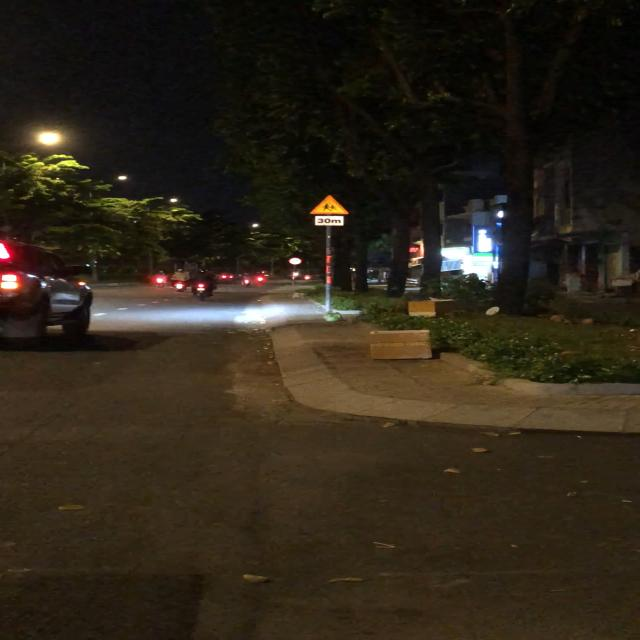Bien bao tre em: (307, 193, 351, 216)
